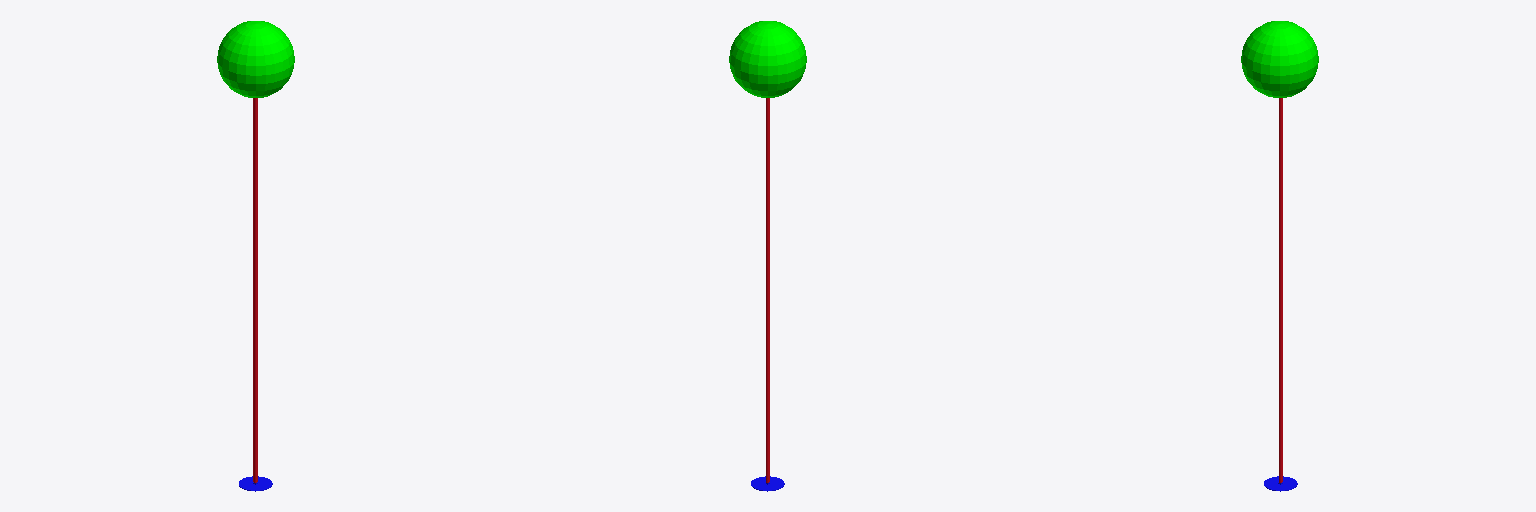
URDF robot description (buoy_green):
<robot name="buoy_green">
  <link name="buoy_green">
    <inertial>
      <origin rpy="0 0 0" xyz="0.1 0.1 0"/>
      <mass value="10"/>
      <inertia ixx="0" ixy="0" ixz="0" iyy="0" iyz="0" izz="0"/>
    </inertial>
    <visual>
      <origin rpy="0 0 0" xyz="0 0 0"/>
      <geometry>
        <mesh filename="package://varun_gazebo/models/buoy_green/meshes/buoy_green.dae"/>
      </geometry>
    </visual>
    <collision>
      <origin rpy="0 0 0" xyz="0 0 0"/>
      <geometry>
        <mesh filename="package://varun_gazebo/models/buoy_green/meshes/buoy_green.dae"/>
      </geometry>
    </collision>
  </link>
</robot>

--- Facts derived from the render (not from the file) ---
Views: 3 orthographic renders of the robot side by side, from view 1: azimuth 30°, elevation 25°; view 2: azimuth 150°, elevation 25°; view 3: azimuth 270°, elevation 25°.
Robot: buoy_green — 1 links, 0 joints (none); root link buoy_green; default pose: every joint at zero.
Links seen in each view (by area): view 1: buoy_green; view 2: buoy_green; view 3: buoy_green.
Link boxes in pixels (x1=…): buoy_green: x1=217, y1=21, x2=294, y2=491; buoy_green: x1=729, y1=21, x2=806, y2=491; buoy_green: x1=1241, y1=21, x2=1318, y2=491.
Bounding box of the posed robot: 0.4572 × 0.4572 × 2.98 m (x, y, z).
Meshes: 1 distinct files referenced, 1 mesh visuals loaded (1 Collada DAE).
